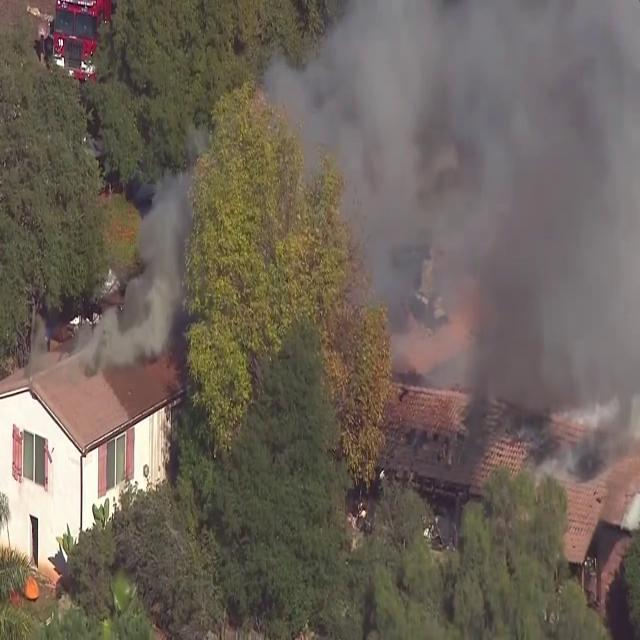Smoke: (328, 0, 640, 407), (97, 152, 210, 386)
